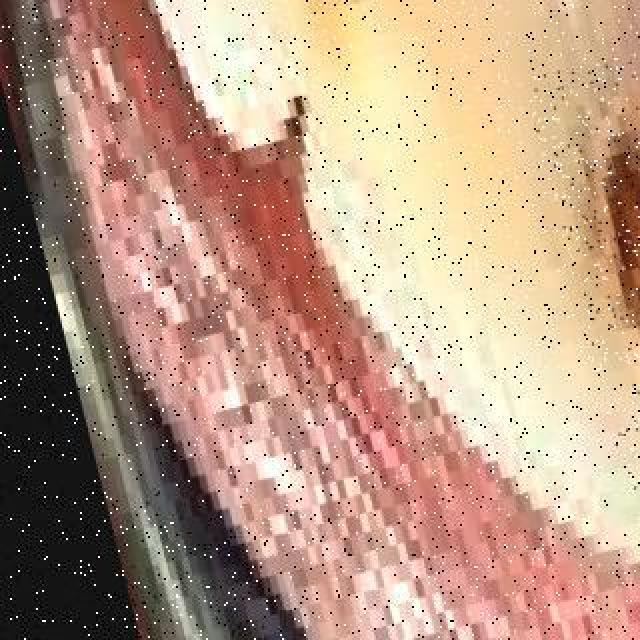cavities: (452, 2, 640, 456)
